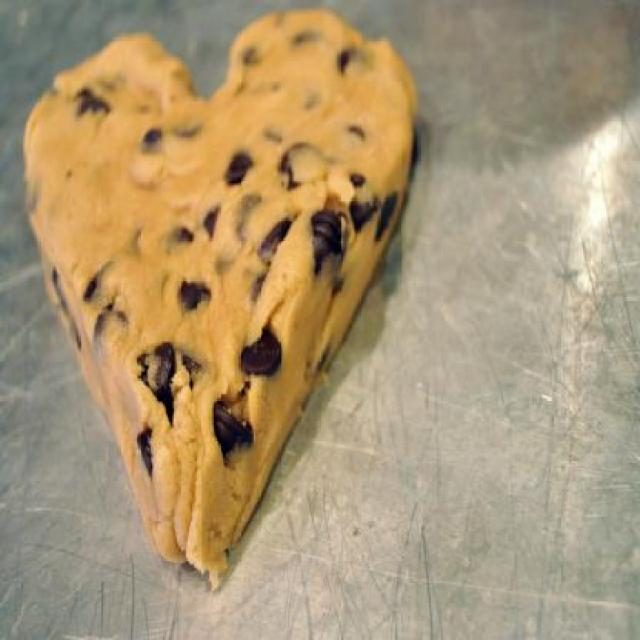Cookie: (20, 2, 417, 590)
